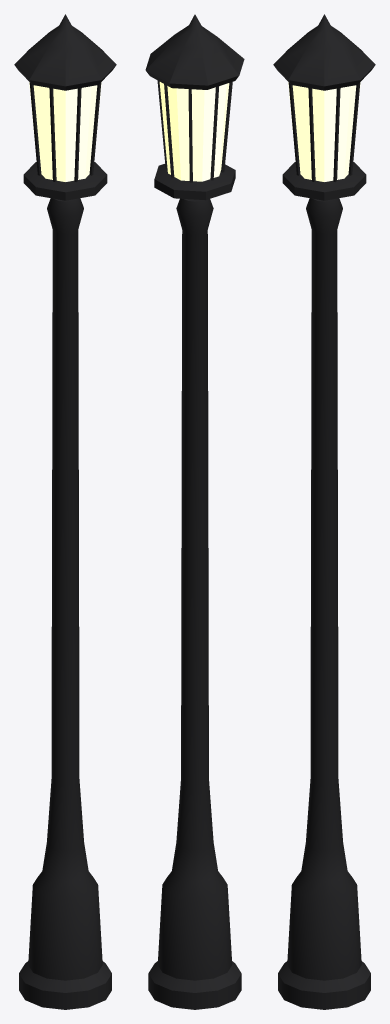
The model's file is street_lamp.glb.
3 views of the same model, side by side, from view 1: azimuth 90°, elevation 25°; view 2: azimuth 150°, elevation 25°; view 3: azimuth 270°, elevation 25° (orthographic).
Visible parts, largest first — view 1: street_lamp; view 2: street_lamp; view 3: street_lamp.
Boxes of the visible parts, x1,y1,x2,y2 form: street_lamp: (14, 14, 116, 1009); street_lamp: (145, 14, 244, 1009); street_lamp: (273, 14, 375, 1009).
Bounding box in the file's own units: 0.44 × 4.62 × 0.44.
